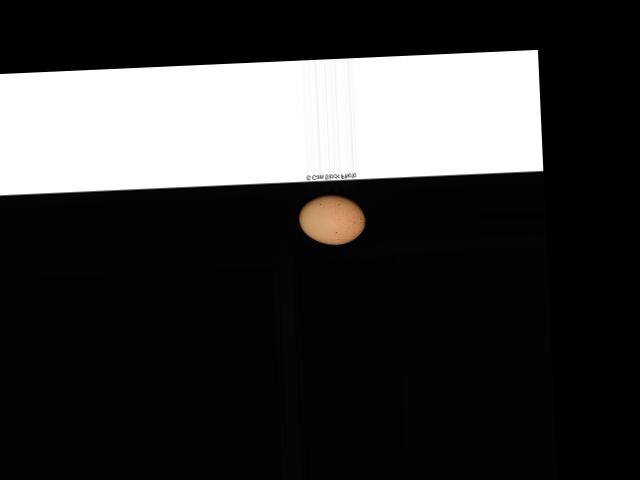egg: (298, 192, 366, 245)
